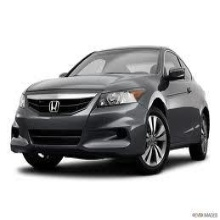no damage: (10, 48, 211, 173)
